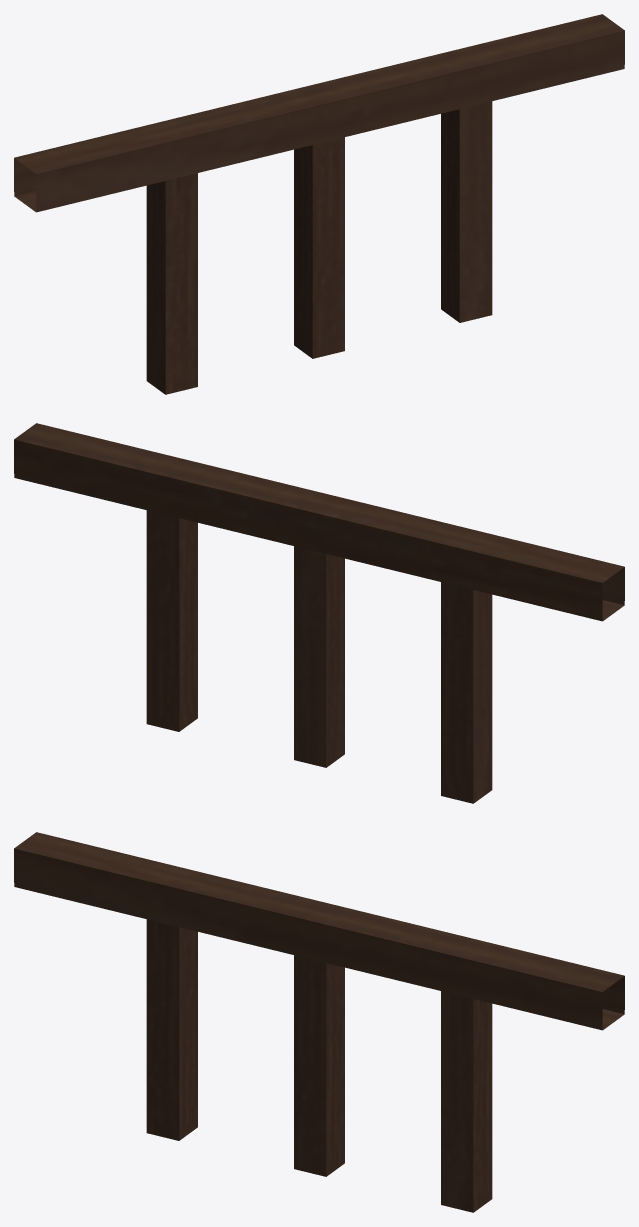
File: Railling.fbx
3 renders of one model, top to bottom at view 1: azimuth 30°, elevation 25°; view 2: azimuth 150°, elevation 25°; view 3: azimuth 330°, elevation 25°, orthographic.
Parts seen in each view (by area): view 1: polySurface1484; view 2: polySurface1484; view 3: polySurface1484.
Boxes of the visible parts, x1,y1,x2,y2 form: polySurface1484: (14, 14, 624, 394); polySurface1484: (14, 423, 624, 803); polySurface1484: (14, 832, 624, 1212).
Size of the model in its own units: 4 by 1.65 by 0.264.
